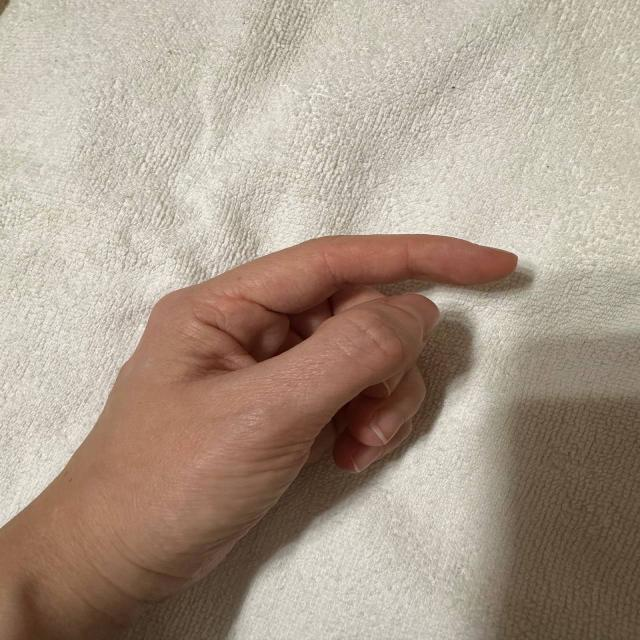kh: (69, 175, 518, 575)
